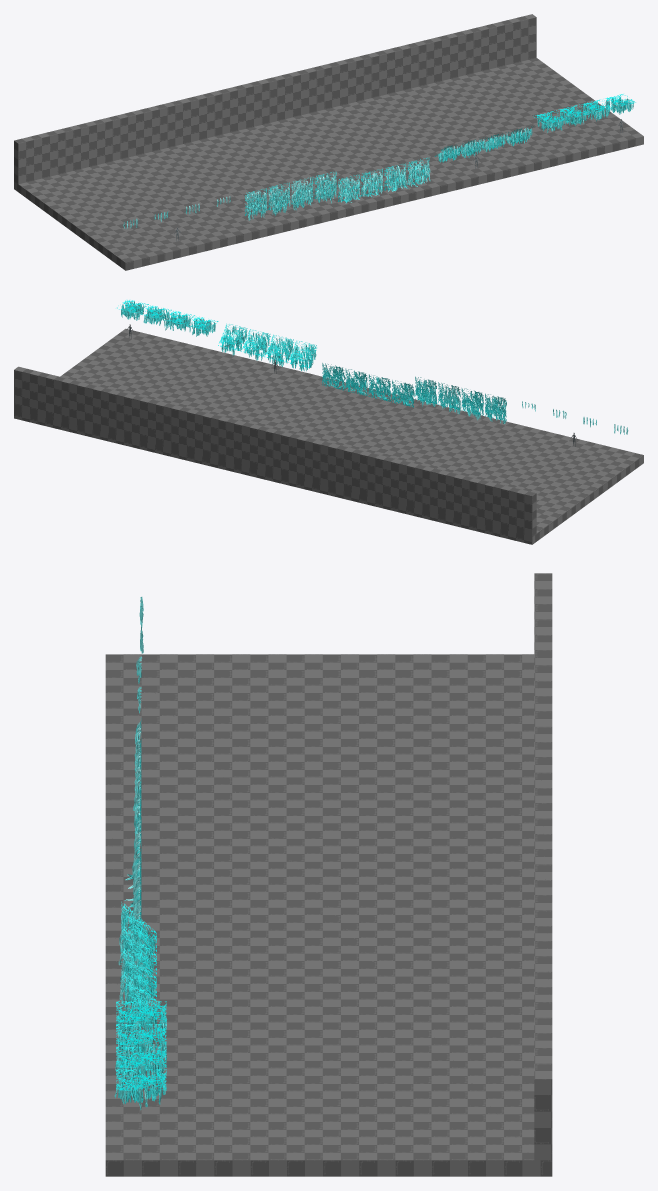
The model's file is Hanging plants pack.fbx.
3 renders of one model, top to bottom at view 1: azimuth 30°, elevation 25°; view 2: azimuth 150°, elevation 25°; view 3: azimuth 270°, elevation 25°, orthographic. The views are drawn at different scales.
Parts seen in each view (by area): view 1: ground, Hanging_plant_side_3_no_flowers_LOD0, Hanging_plant_side_4_no_flowers_LOD0, Hanging_plant_side_2_LOD0, Hanging_plant_side_1_LOD0, Hanging_plant_side_8_floor_LOD0, Hanging_plant_side_5_no_flowers_floor_LOD0, Hanging_plant_side_7_floor_LOD0, Hanging_plant_side_6_no_flowers_floor_LOD0, Hanging_plant_top_2_LOD0, Hanging_plant_top_1_LOD0, Hanging_plant_top_3_no_flowers_LOD0 (+1 smaller); view 2: ground, Hanging_plant_angle_2_LOD0, Hanging_plant_angle_4_no_flowers_LOD0, Hanging_plant_angle_1_LOD0, Hanging_plant_angle_3_no_flowers_LOD0, Hanging_plant_side_3_no_flowers_LOD0, Hanging_plant_side_4_no_flowers_LOD0, Hanging_plant_side_2_LOD0, Hanging_plant_side_1_LOD0, Hanging_plant_side_8_floor_LOD0, Hanging_plant_side_6_no_flowers_floor_LOD0, Hanging_plant_side_5_no_flowers_floor_LOD0 (+5 smaller); view 3: ground, Hanging_plant_top_4_no_flowers_LOD0, Hanging_plant_top_3_no_flowers_LOD0, Hanging_plant_top_2_LOD0, Hanging_plant_top_1_LOD0, Hanging_plant_angle_2_LOD0, Hanging_plant_angle_3_no_flowers_LOD0, Hanging_plant_angle_1_LOD0.
Part boxes in pixels (<box>): ground: <box>14,14,643,270</box>; Hanging_plant_side_3_no_flowers_LOD0: <box>291,177,313,210</box>; Hanging_plant_side_4_no_flowers_LOD0: <box>314,171,336,203</box>; Hanging_plant_side_2_LOD0: <box>268,182,290,215</box>; Hanging_plant_side_1_LOD0: <box>245,188,267,220</box>; Hanging_plant_side_8_floor_LOD0: <box>407,157,430,186</box>; Hanging_plant_side_5_no_flowers_floor_LOD0: <box>338,174,360,203</box>; Hanging_plant_side_7_floor_LOD0: <box>384,163,408,191</box>; Hanging_plant_side_6_no_flowers_floor_LOD0: <box>361,168,382,197</box>; Hanging_plant_top_2_LOD0: <box>556,105,589,125</box>; Hanging_plant_top_1_LOD0: <box>533,110,566,132</box>; Hanging_plant_top_3_no_flowers_LOD0: <box>579,99,612,121</box>; ground: <box>14,328,643,544</box>; Hanging_plant_angle_2_LOD0: <box>264,334,293,366</box>; Hanging_plant_angle_4_no_flowers_LOD0: <box>218,323,247,355</box>; Hanging_plant_angle_1_LOD0: <box>287,340,316,371</box>; Hanging_plant_angle_3_no_flowers_LOD0: <box>241,329,270,360</box>; Hanging_plant_side_3_no_flowers_LOD0: <box>438,382,460,414</box>; Hanging_plant_side_4_no_flowers_LOD0: <box>415,376,437,407</box>; Hanging_plant_side_2_LOD0: <box>461,388,484,420</box>; Hanging_plant_side_1_LOD0: <box>485,393,506,423</box>; Hanging_plant_side_8_floor_LOD0: <box>322,363,345,390</box>; Hanging_plant_side_6_no_flowers_floor_LOD0: <box>368,374,391,401</box>; Hanging_plant_side_5_no_flowers_floor_LOD0: <box>392,380,414,407</box>; ground: <box>105,573,552,1176</box>; Hanging_plant_top_4_no_flowers_LOD0: <box>114,1069,166,1109</box>; Hanging_plant_top_3_no_flowers_LOD0: <box>115,1046,166,1082</box>; Hanging_plant_top_2_LOD0: <box>116,1024,167,1061</box>; Hanging_plant_top_1_LOD0: <box>116,1001,167,1037</box>; Hanging_plant_angle_2_LOD0: <box>119,924,156,983</box>; Hanging_plant_angle_3_no_flowers_LOD0: <box>118,947,156,1003</box>; Hanging_plant_angle_1_LOD0: <box>121,902,156,960</box>.
Size of what is drawn, in the model's own units: 6700 by 600 by 2500.
